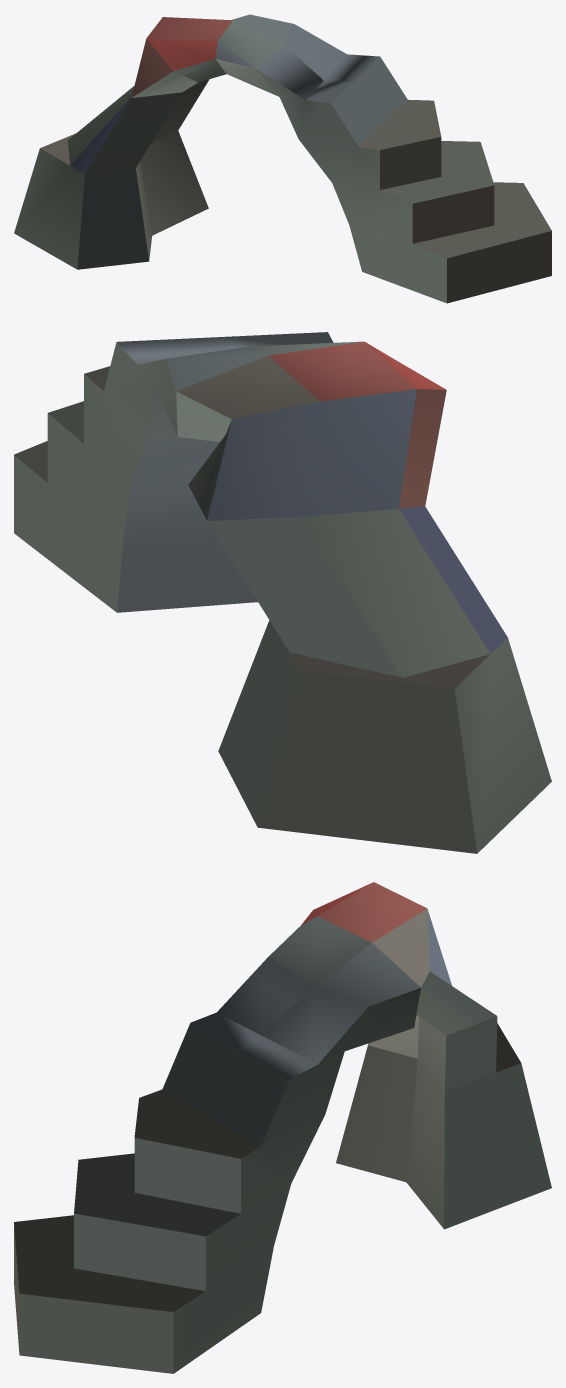
The model's file is arch-small.fbx.
3 renders of one model, top to bottom at view 1: azimuth 30°, elevation 25°; view 2: azimuth 150°, elevation 25°; view 3: azimuth 270°, elevation 25°, orthographic. The views are drawn at different scales.
Visible parts, largest first — view 1: Mesh; view 2: Mesh; view 3: Mesh.
Boxes of the visible parts, x1=… form: Mesh: x1=14, y1=14, x2=551, y2=303; Mesh: x1=14, y1=332, x2=551, y2=853; Mesh: x1=14, y1=882, x2=551, y2=1373.
Bounding box in the file's own units: 1210 × 627 × 1061.
